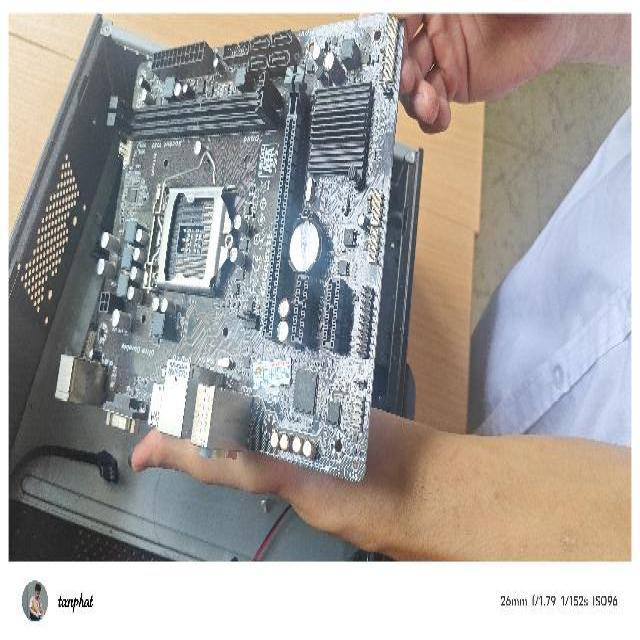Mainboard: (46, 12, 408, 485)
